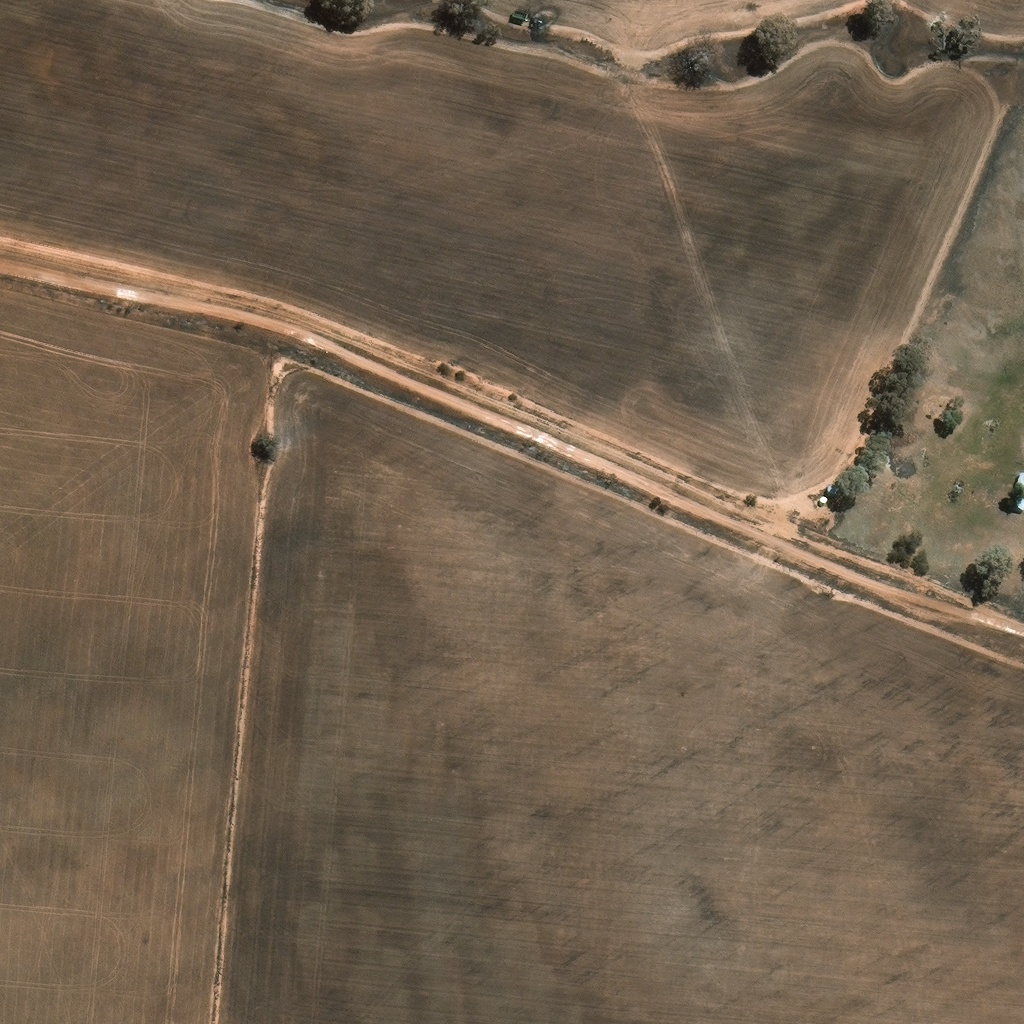0 no-damage: (1010, 469, 1023, 507), (820, 493, 827, 501)
